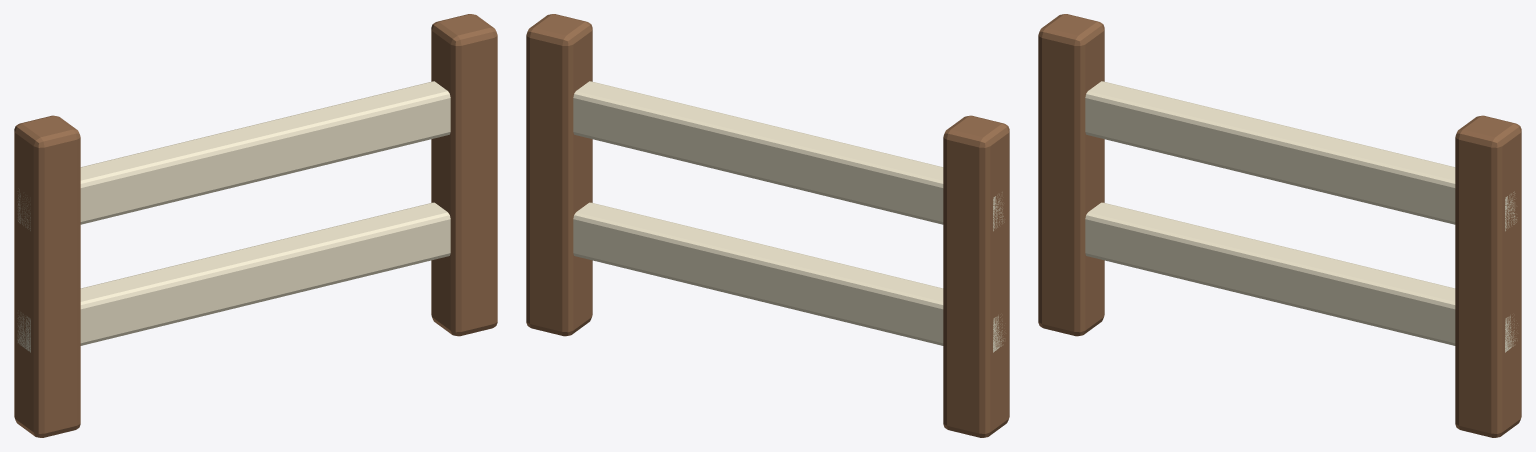
Rendered from fence.glb.
3 renders of one model, left to right at view 1: azimuth 30°, elevation 25°; view 2: azimuth 150°, elevation 25°; view 3: azimuth 330°, elevation 25°, orthographic.
Parts seen in each view (by area): view 1: fence; view 2: fence; view 3: fence.
Boxes of the visible parts, <box> form: fence: <box>14,14,497,437</box>; fence: <box>526,14,1009,437</box>; fence: <box>1038,14,1521,437</box>.
Bounding box in the file's own units: 1 × 0.62 × 0.1.
